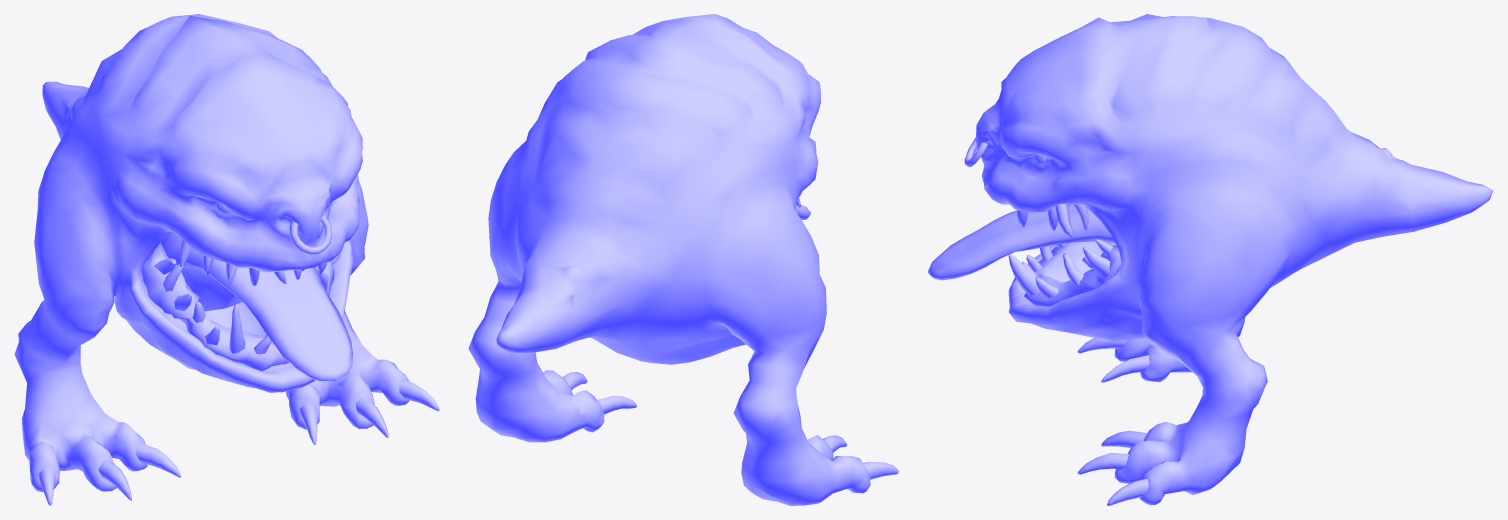
File: grn_squig_herd_01_LOD3.FBX
The picture shows the model from 3 angles, left to right: view 1: azimuth 30°, elevation 25°; view 2: azimuth 150°, elevation 25°; view 3: azimuth 270°, elevation 25°; orthographic projection. The views are drawn at different scales.
Parts seen in each view (by area): view 1: grn_squig_herd_01_01_lod1; view 2: grn_squig_herd_01_01_lod1; view 3: grn_squig_herd_01_01_lod1.
Boxes of the visible parts, left/top/right/bottom form: grn_squig_herd_01_01_lod1: left=14, top=14, right=439, bottom=505; grn_squig_herd_01_01_lod1: left=468, top=14, right=898, bottom=505; grn_squig_herd_01_01_lod1: left=927, top=14, right=1493, bottom=505.
Bounding box in the file's own units: 44.02 × 44.82 × 56.98.
